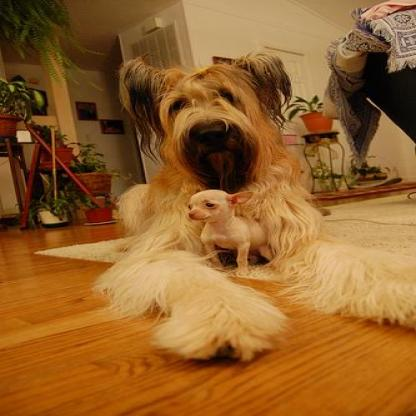briard: (89, 51, 412, 362)
